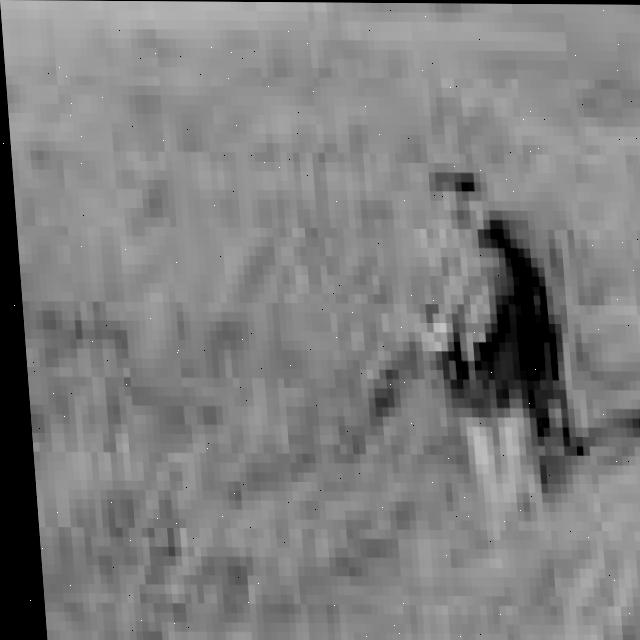Lion: (418, 164, 625, 544)
